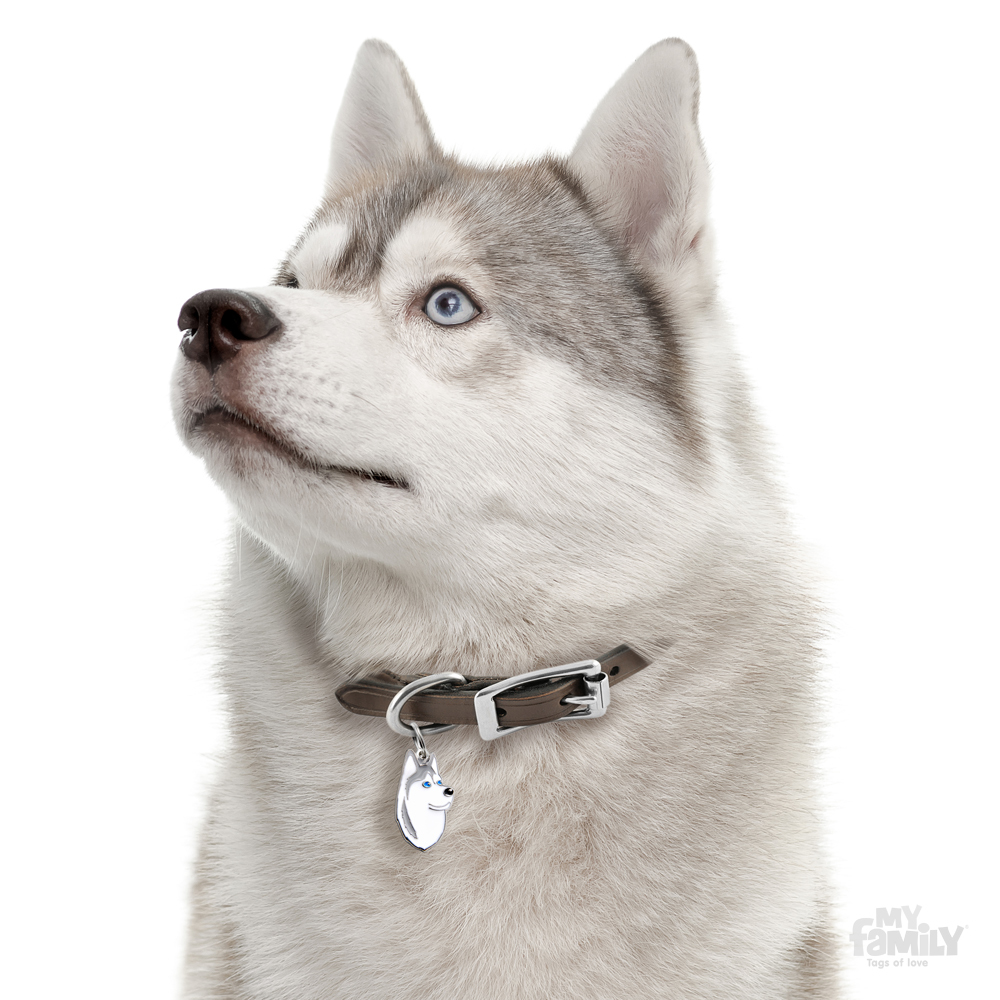husky: (125, 24, 842, 940)
